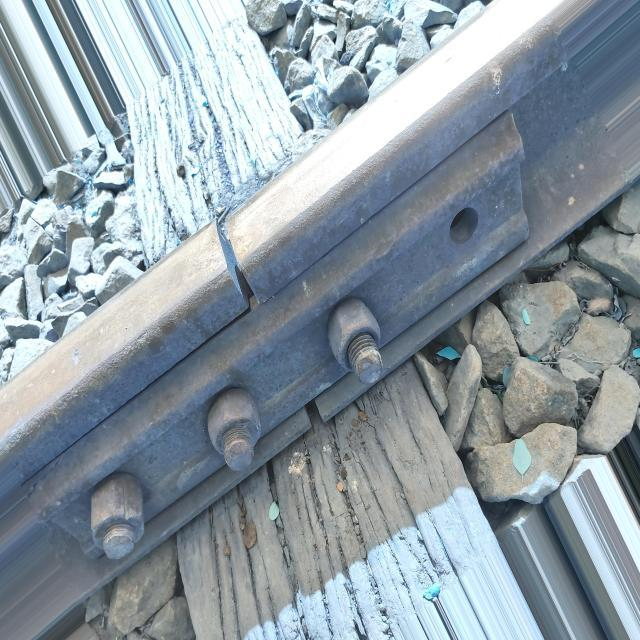Defective Joint: (31, 111, 528, 559)
